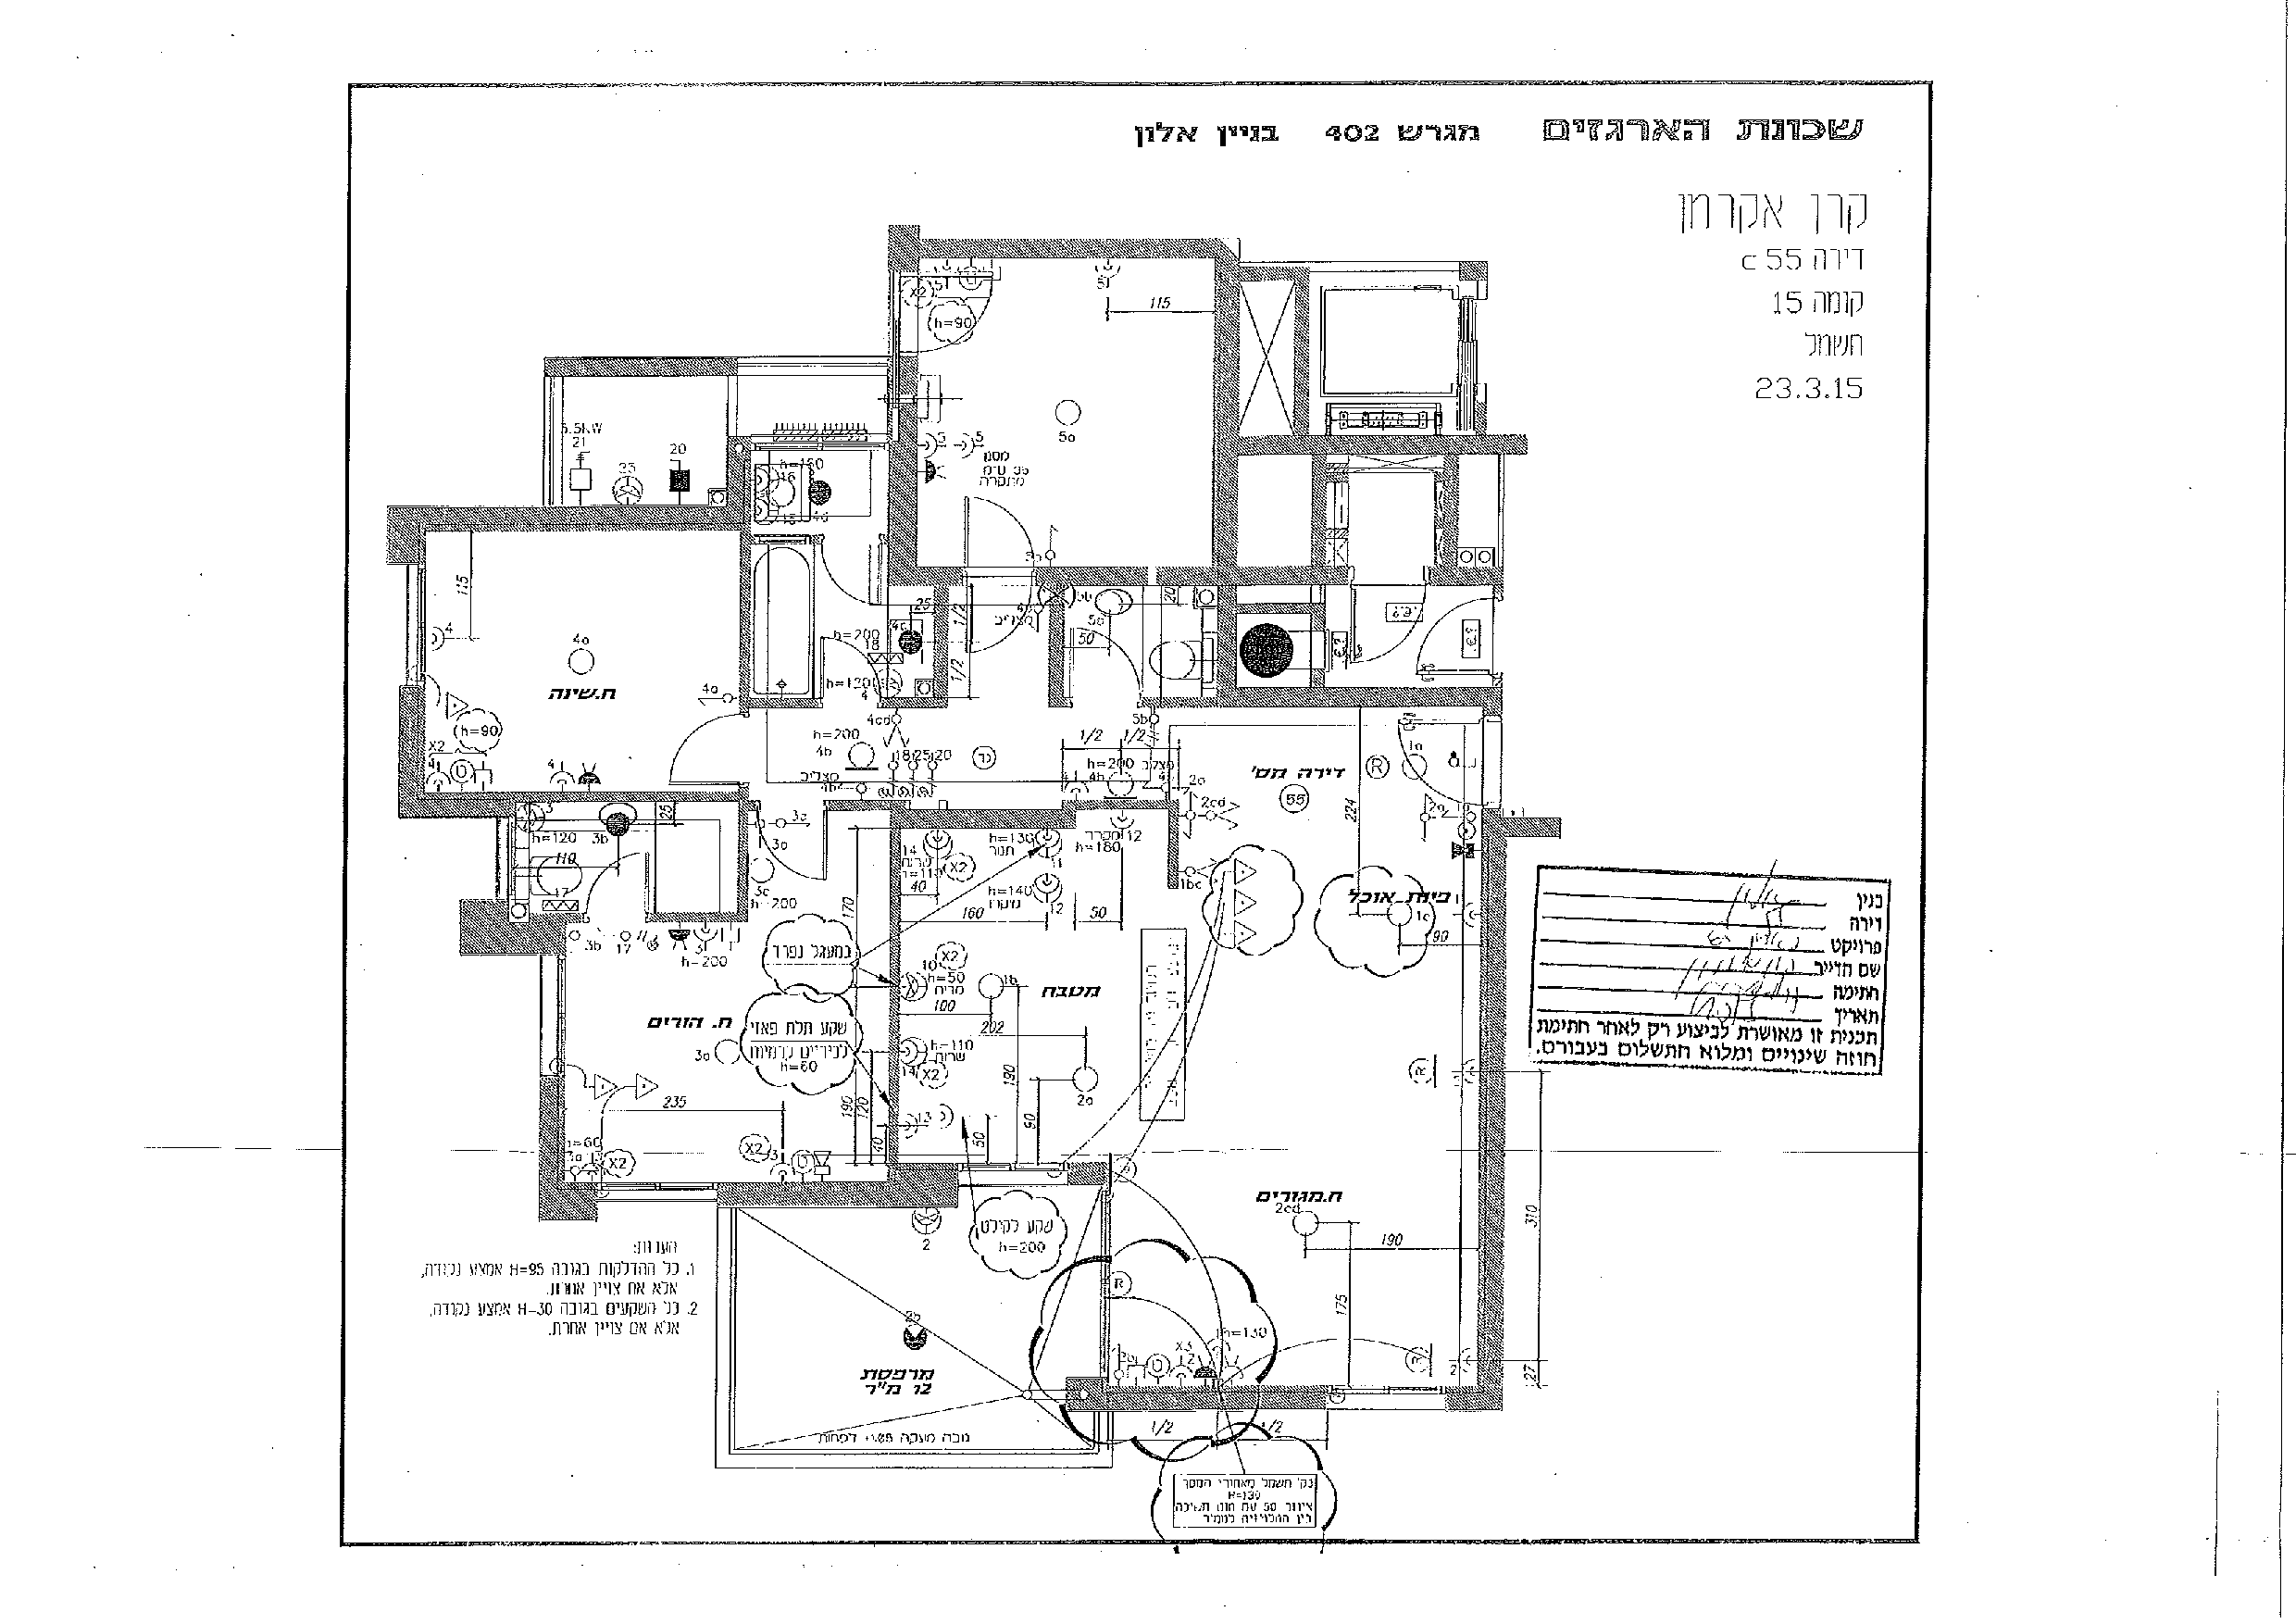door: (1416, 598, 1493, 685), (662, 707, 738, 784), (956, 494, 1038, 564)
wall: (1484, 814, 1502, 1406), (889, 239, 1217, 257), (1217, 274, 1235, 566), (1240, 436, 1527, 453), (392, 511, 738, 526), (1108, 1388, 1330, 1410), (724, 1185, 956, 1204), (546, 357, 727, 376), (892, 448, 919, 580), (894, 812, 1070, 828), (1293, 267, 1309, 434), (399, 689, 420, 812), (1165, 571, 1347, 582), (1446, 459, 1462, 580), (425, 796, 509, 817), (545, 1081, 555, 1218), (1314, 455, 1325, 562), (1245, 267, 1289, 279)
